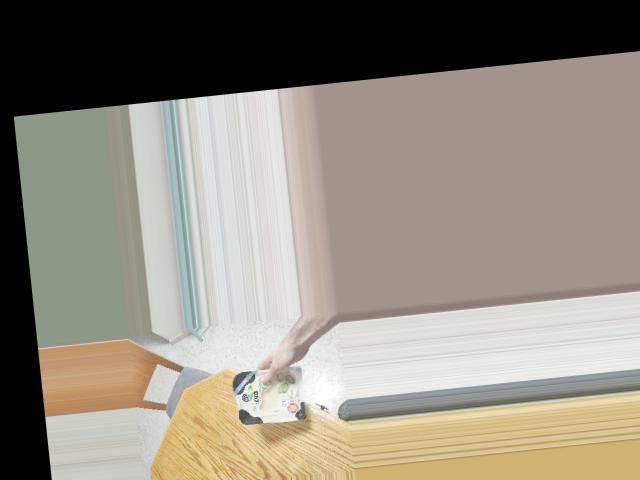cheese: (230, 361, 310, 425)
